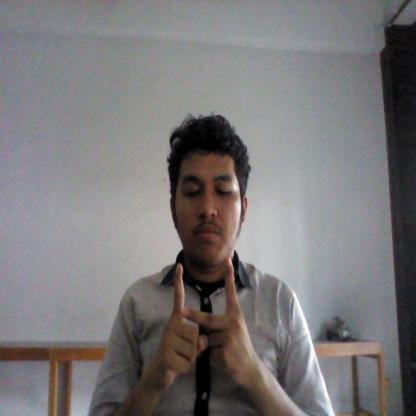H: (156, 258, 258, 387)
